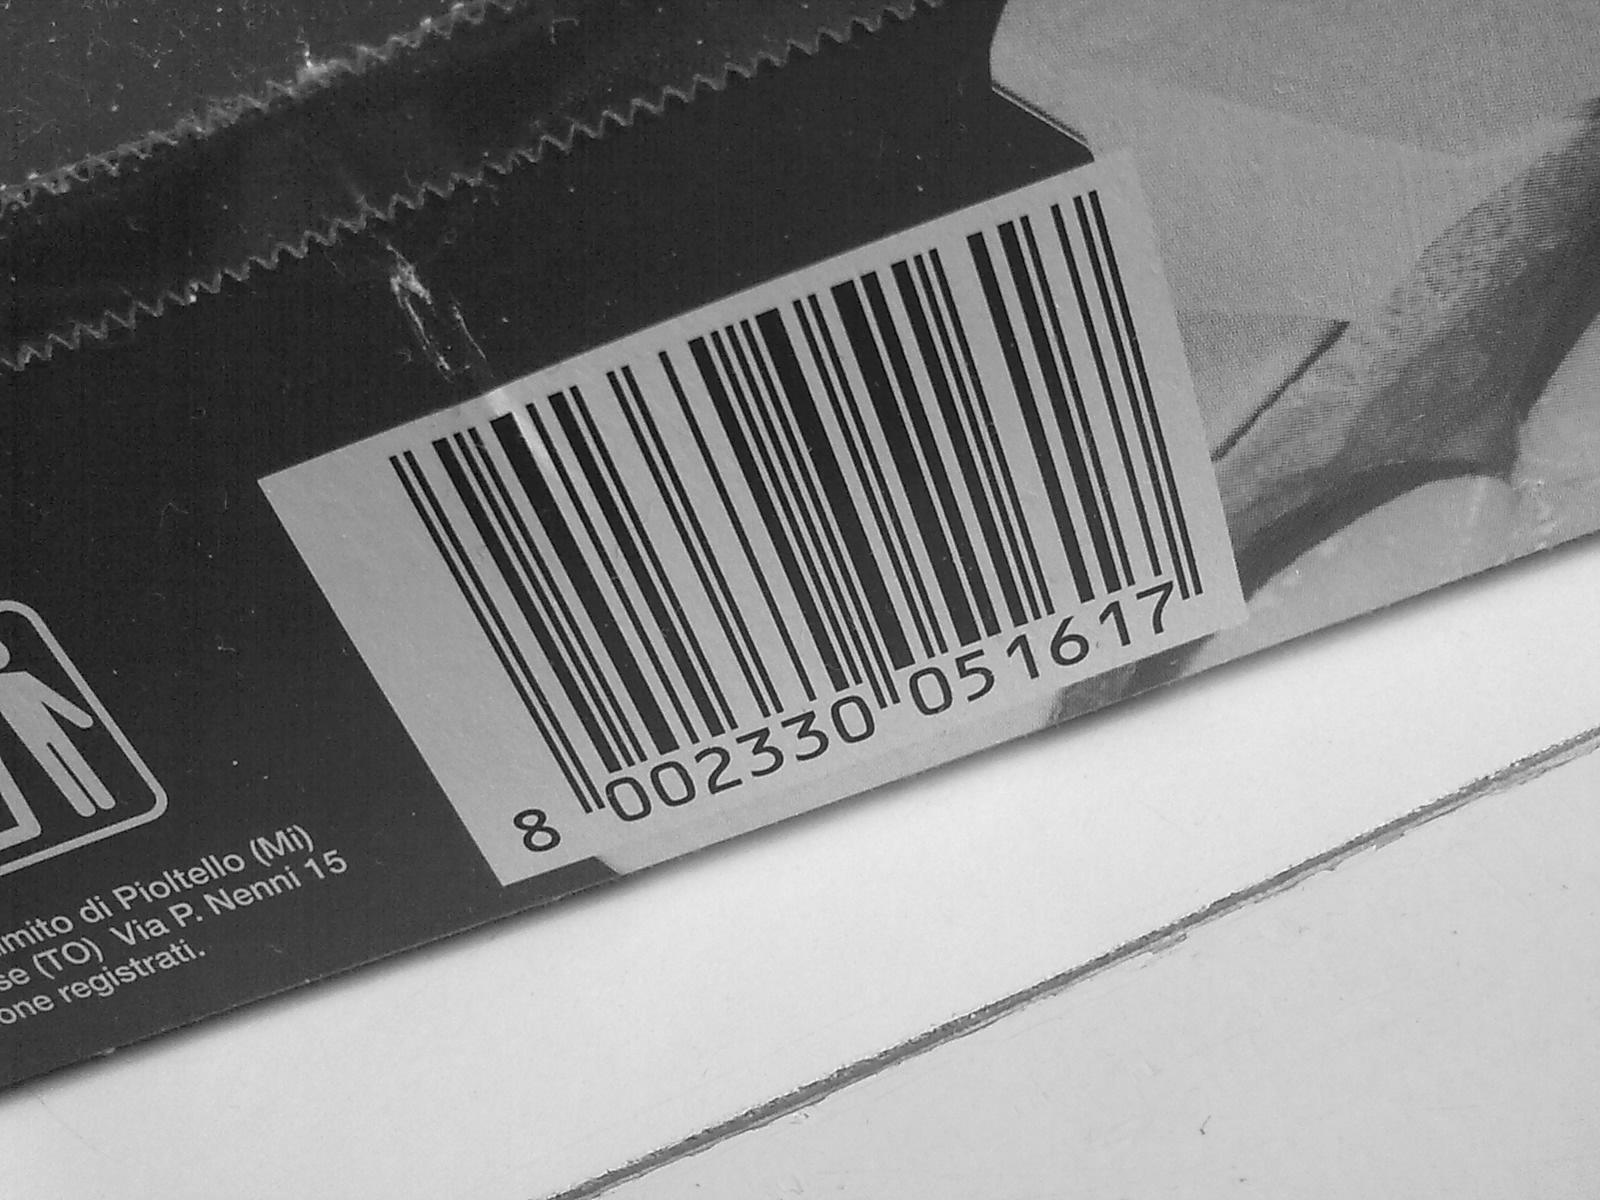Barcode: (399, 151, 1265, 841)
